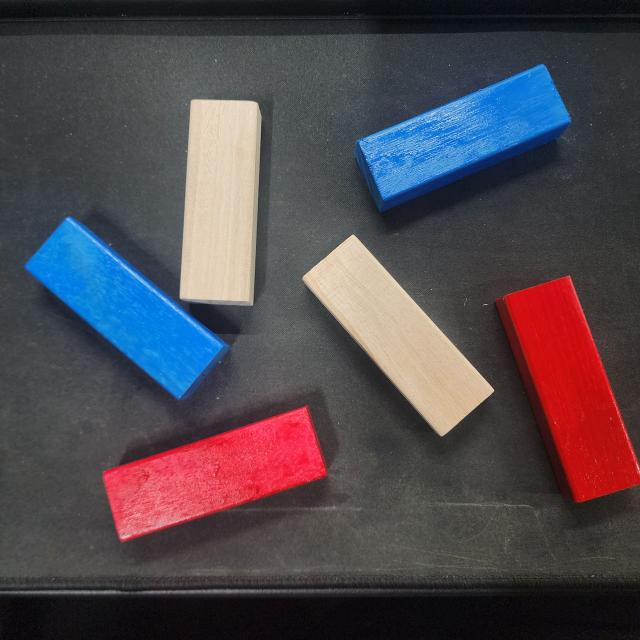blue: (22, 212, 232, 405), (349, 62, 575, 212)
red: (98, 405, 330, 542)
wood: (300, 233, 495, 439), (180, 99, 263, 307)
